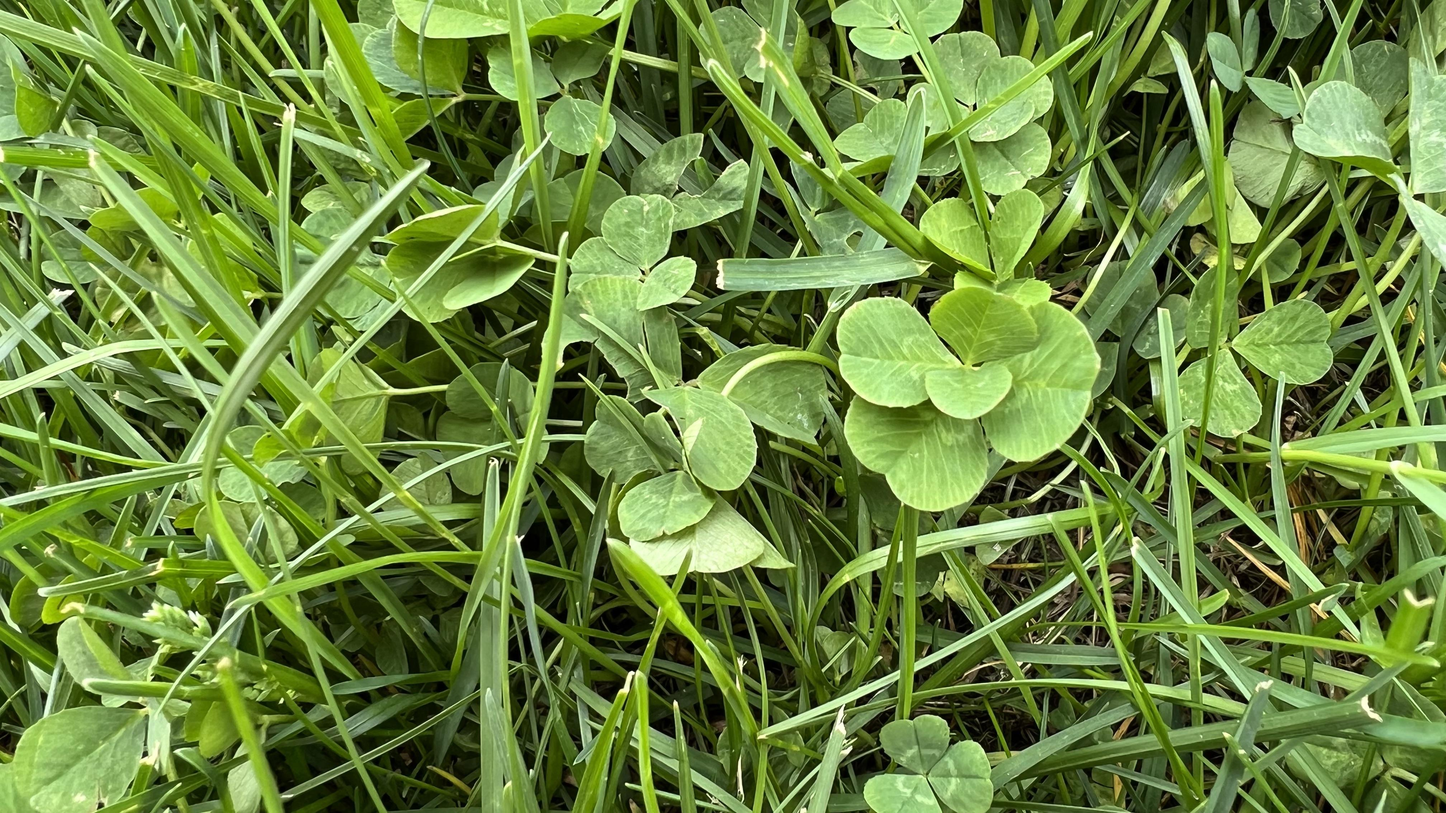5-Leaf-Clovers: (524, 196, 903, 346)
